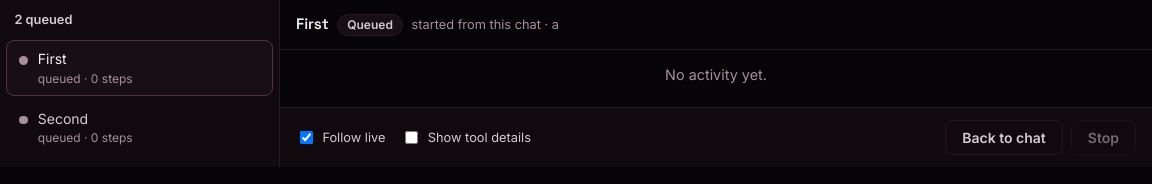
it: HelpersContainer › switches the thread when a different helper is selected from the list
Click the text "Second" at (63, 118), box [38,110,88,127]
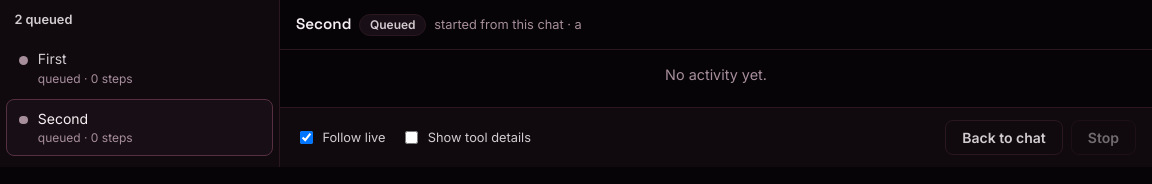
expect the heading "Second" is shown: met, box [296,14,351,33]
